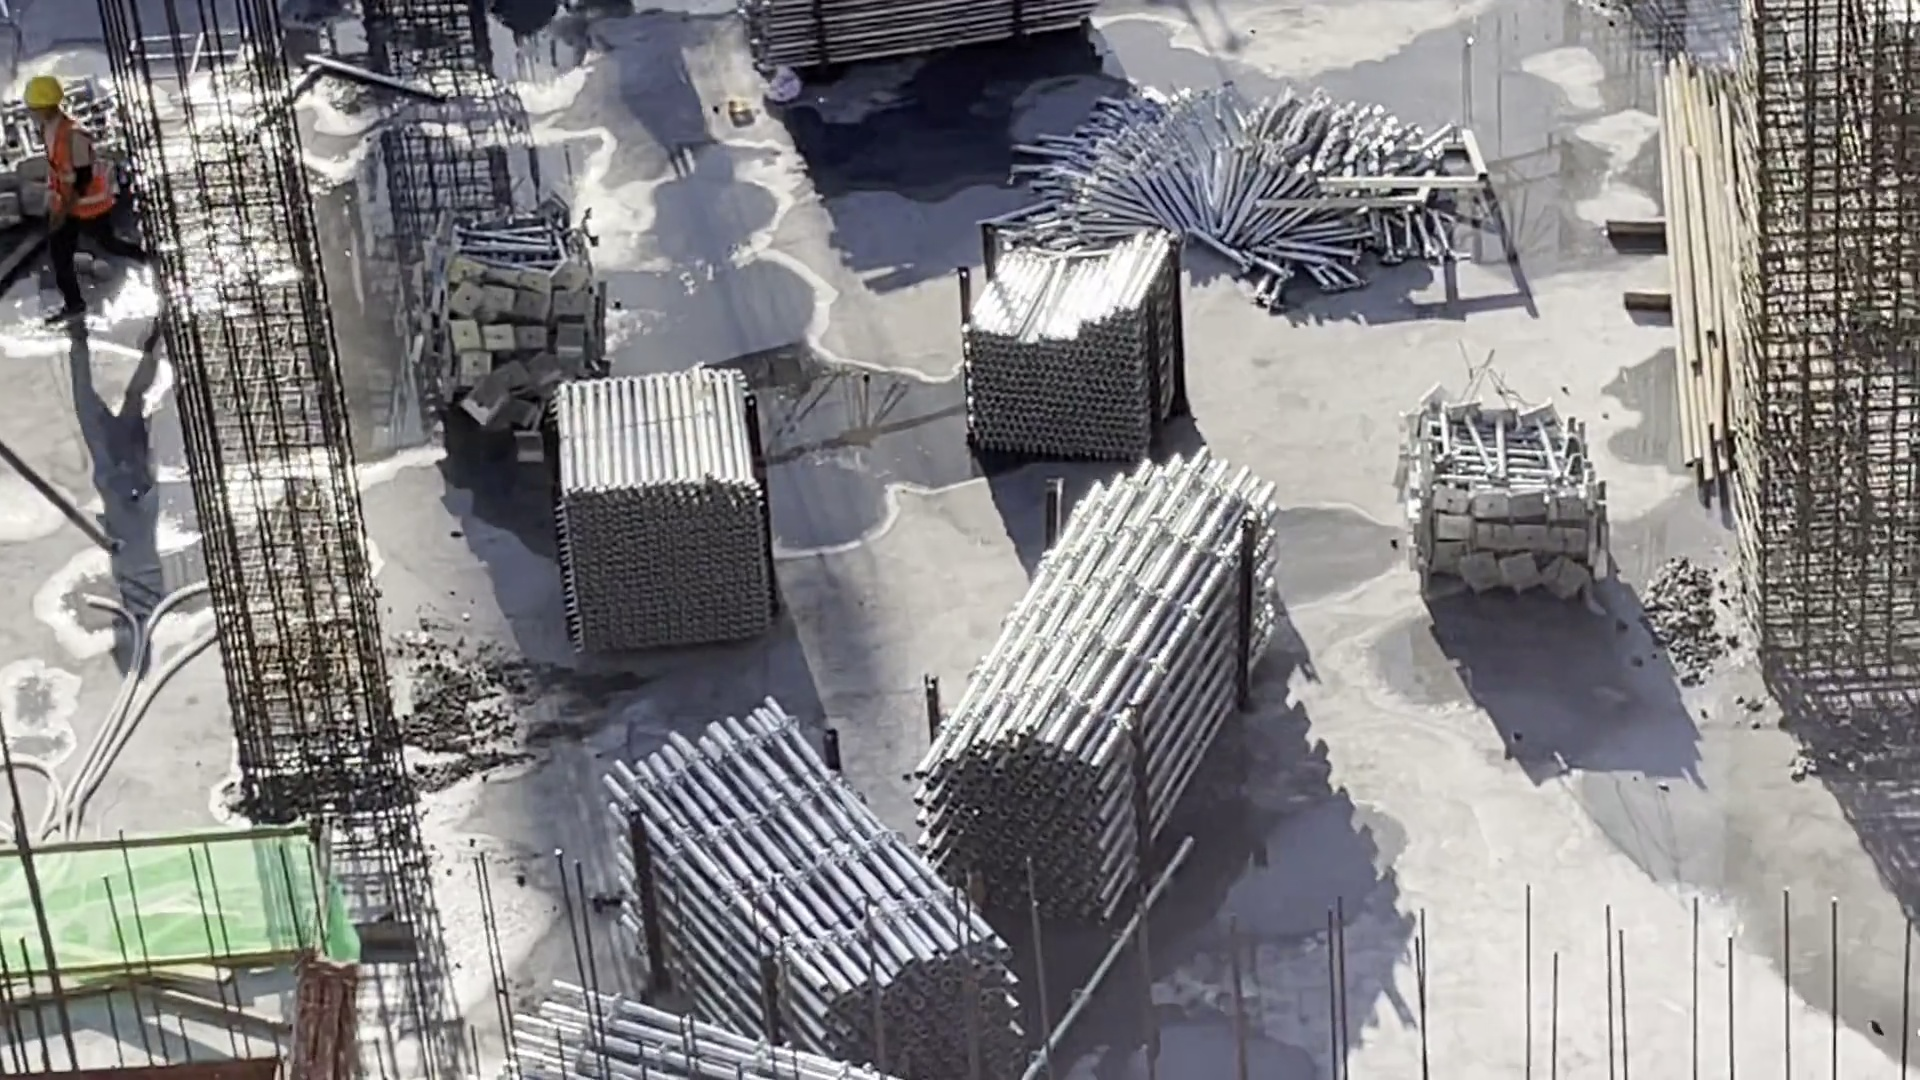helmet: (26, 74, 66, 119)
person: (25, 53, 186, 330)
scaffold: (947, 475, 1278, 887), (637, 718, 1004, 1045), (1037, 87, 1458, 281), (539, 366, 783, 642), (954, 228, 1186, 475), (496, 961, 908, 1080), (1375, 385, 1583, 600), (416, 219, 604, 433), (758, 2, 1109, 79)
vest: (28, 115, 115, 217)
